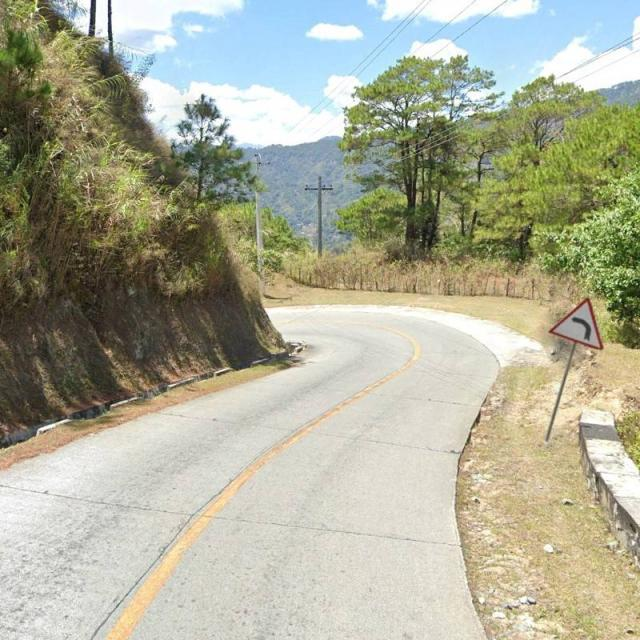warn_left_curve: (549, 298, 603, 350)
